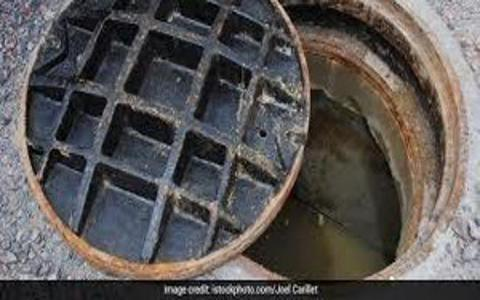open manhole: (245, 1, 460, 275)
